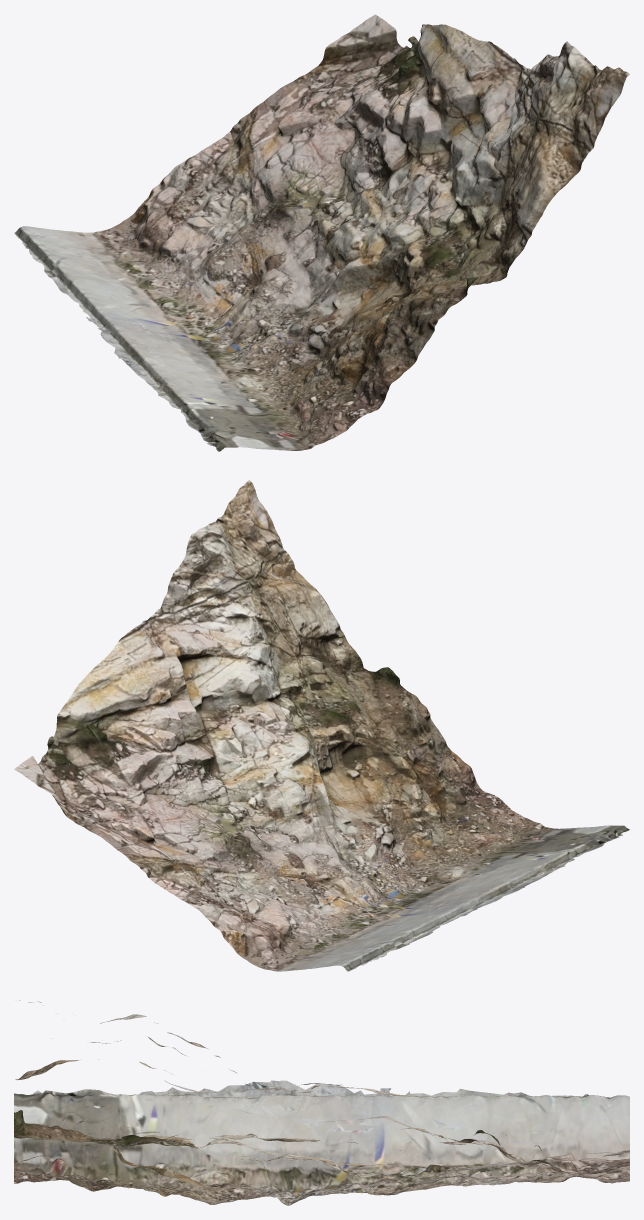
3 views of the same model, one above another, from view 1: azimuth 30°, elevation 25°; view 2: azimuth 150°, elevation 25°; view 3: azimuth 270°, elevation 25° (orthographic). The views are drawn at different scales.
Bounding box in the file's own units: 4.74 × 3.28 × 5.05.
3 materials, 3 textured.
